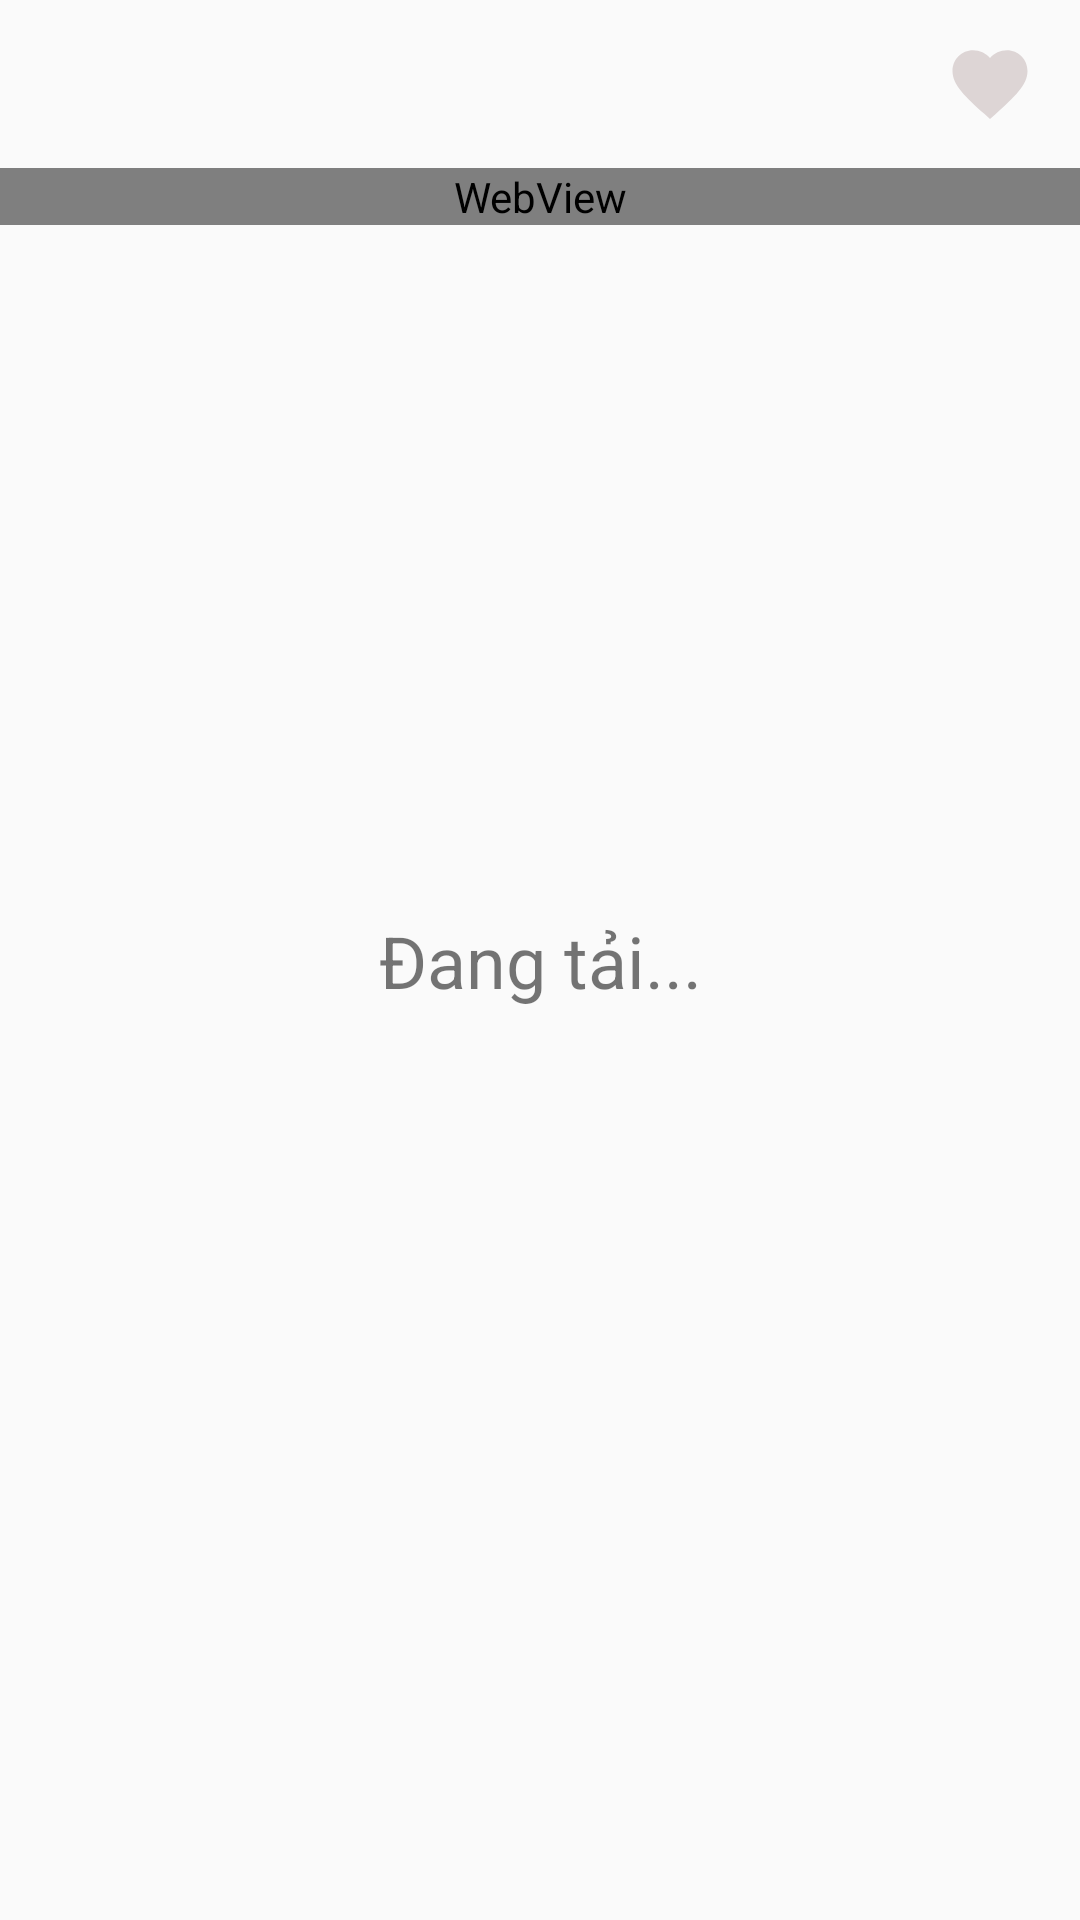

Locate icon controls on the screen. Image size 1080px×1920px, boxes as bbox=(x1, y1, x2, y2).
favorite: bbox=(953, 50, 1027, 118)
